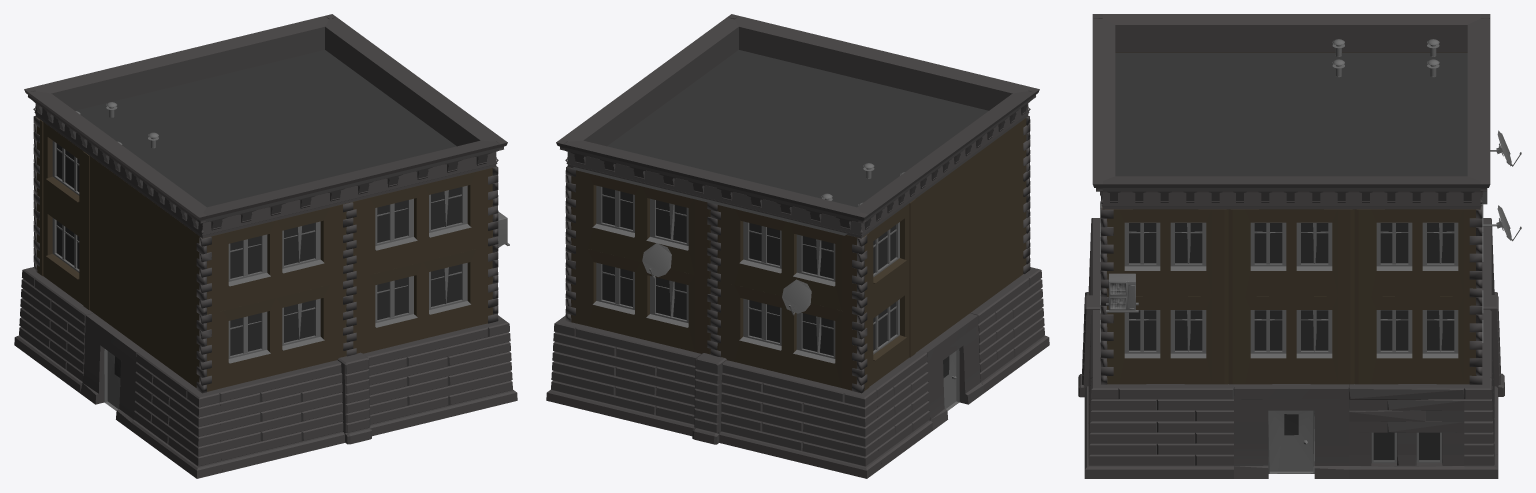
3 renders of one model, left to right at view 1: azimuth 30°, elevation 25°; view 2: azimuth 150°, elevation 25°; view 3: azimuth 270°, elevation 25°, orthographic. The views are drawn at different scales.
Parts seen in each view (by area): view 1: Plane.002, middle_floor_wall_02.043, middle_floor_wall_02.049, middle_floor_wall_02.042, middle_floor_wall_02.048, ground_floor_wall_02.014, ground_floor_wall_02.011, trimm.018, ground_floor_wall_02.008, ground_floor_wall_02.009, trimm.019, ground_floor_wall_01.003 (+24 smaller); view 2: Plane.002, ground_floor_wall_02.013, middle_floor_wall_02.044, ground_floor_wall_02.012, middle_floor_wall_02.046, middle_floor_wall_02.047, middle_floor_wall_02.045, trimm.017, ground_floor_wall_02.009, ground_floor_wall_02.008, trimm.020, ground_floor_wall_01.003 (+26 smaller); view 3: Plane.002, middle_floor_wall_02.037, middle_floor_wall_02.040, ground_floor_wall_02.010, ground_floor_wall_03.002, ground_floor_wall_01.004, middle_floor_wall_02.038, middle_floor_wall_02.041, middle_floor_wall_02.036, middle_floor_wall_02.039, trimm.012, trimm.013 (+21 smaller).
Part boxes in pixels (<box>): Plane.002: <box>75,50,456,207</box>; middle_floor_wall_02.043: <box>349,167,495,277</box>; middle_floor_wall_02.049: <box>204,203,348,314</box>; middle_floor_wall_02.042: <box>353,245,492,353</box>; middle_floor_wall_02.048: <box>206,281,346,391</box>; ground_floor_wall_02.014: <box>216,360,344,472</box>; ground_floor_wall_02.011: <box>363,324,491,436</box>; trimm.018: <box>178,16,328,82</box>; ground_floor_wall_02.008: <box>29,276,93,393</box>; ground_floor_wall_02.009: <box>131,350,194,467</box>; trimm.019: <box>32,51,188,110</box>; ground_floor_wall_01.003: <box>80,313,143,430</box>; Plane.002: <box>571,50,988,235</box>; ground_floor_wall_02.013: <box>719,360,847,472</box>; middle_floor_wall_02.044: <box>571,246,710,354</box>; ground_floor_wall_02.012: <box>572,324,700,436</box>; middle_floor_wall_02.046: <box>717,281,857,390</box>; middle_floor_wall_02.047: <box>717,205,859,313</box>; middle_floor_wall_02.045: <box>568,167,710,278</box>; trimm.017: <box>735,16,885,82</box>; ground_floor_wall_02.009: <box>970,276,1034,393</box>; ground_floor_wall_02.008: <box>869,350,932,467</box>; trimm.020: <box>875,51,1031,110</box>; ground_floor_wall_01.003: <box>920,313,983,430</box>; Plane.002: <box>1115,53,1487,204</box>; middle_floor_wall_02.037: <box>1228,296,1354,384</box>; middle_floor_wall_02.040: <box>1228,209,1354,296</box>; ground_floor_wall_02.010: <box>1118,384,1233,478</box>; ground_floor_wall_03.002: <box>1349,384,1464,478</box>; ground_floor_wall_01.004: <box>1234,384,1349,478</box>; middle_floor_wall_02.038: <box>1354,296,1476,384</box>; middle_floor_wall_02.041: <box>1354,209,1480,296</box>; middle_floor_wall_02.036: <box>1107,296,1228,384</box>; middle_floor_wall_02.039: <box>1103,209,1228,296</box>; trimm.012: <box>1228,14,1354,52</box>; trimm.013: <box>1102,14,1228,52</box>.
Bounding box in the file's own units: 1325 × 1010 × 1394.
